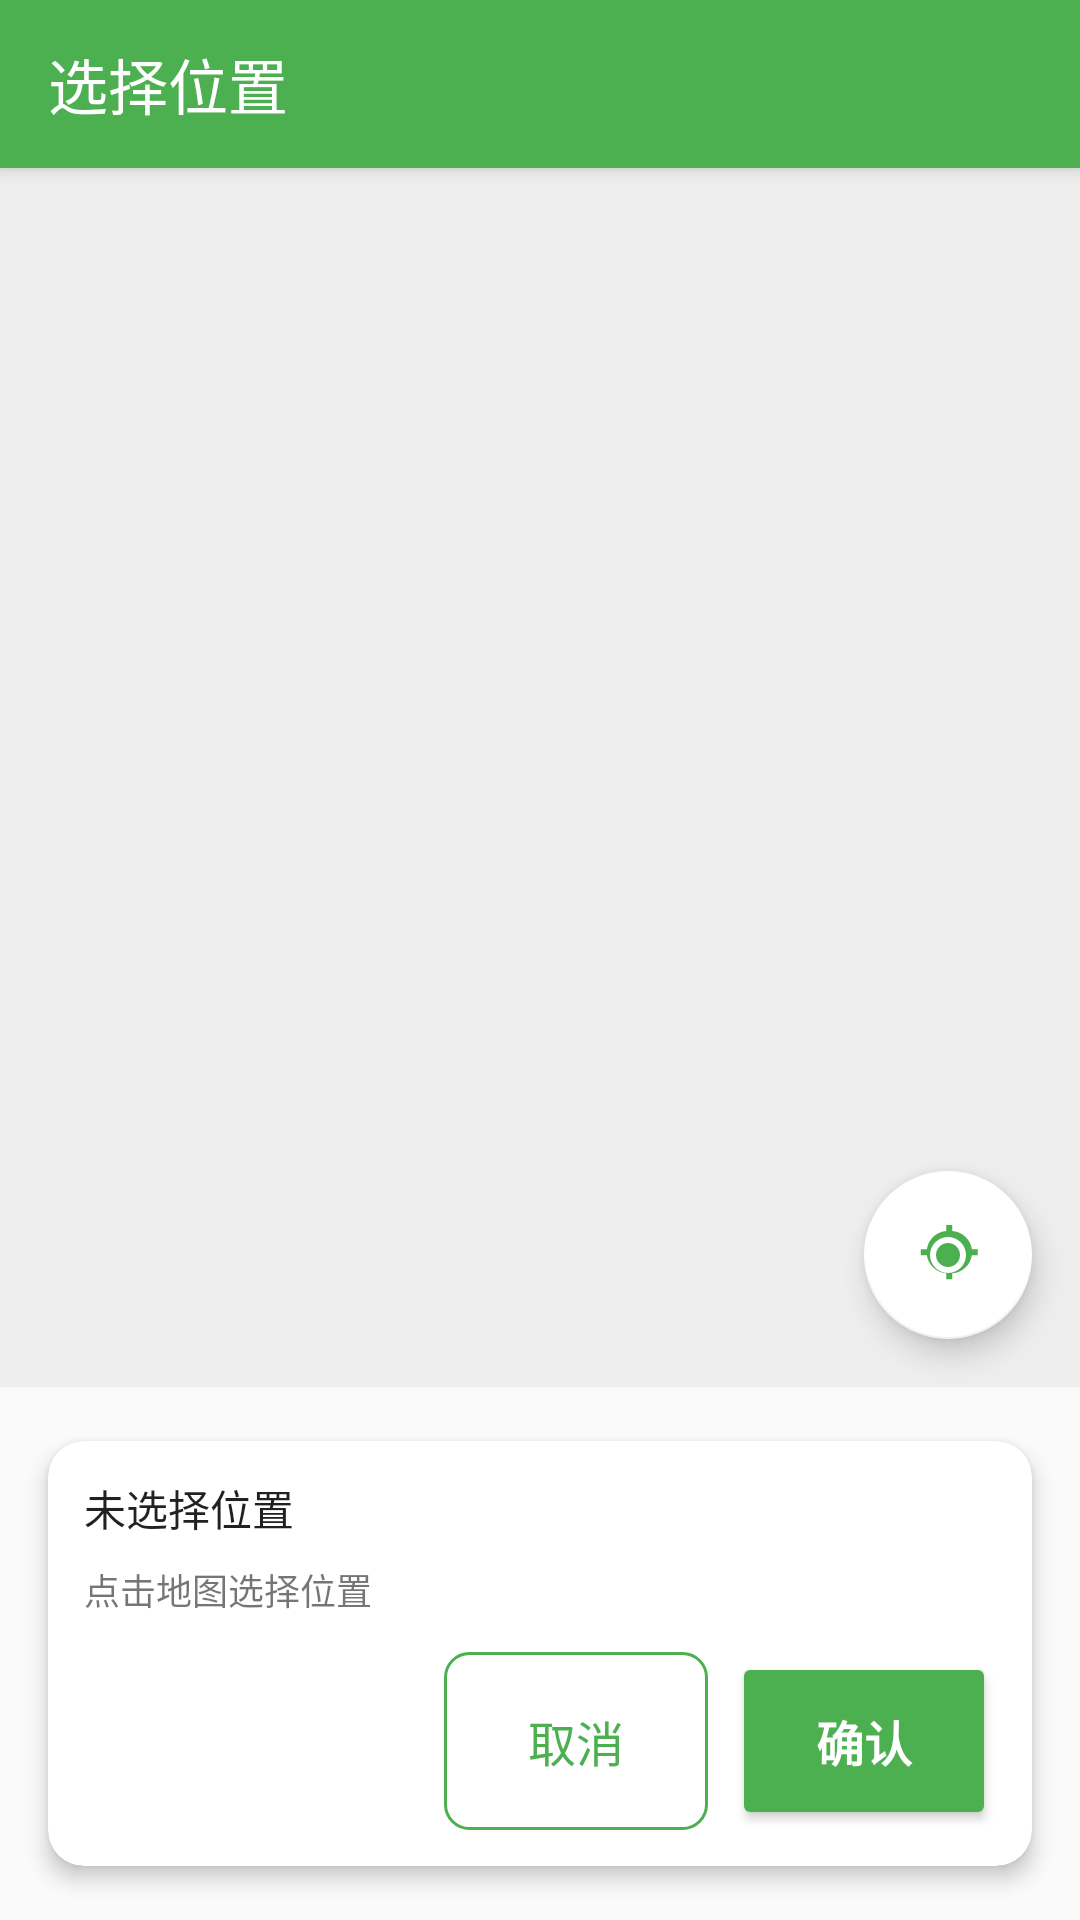

Screen size 1080w x 1920h. Icon name, then its box in pixels as (x1, y1, x2, y2):
location: (864, 1171, 1032, 1339)
